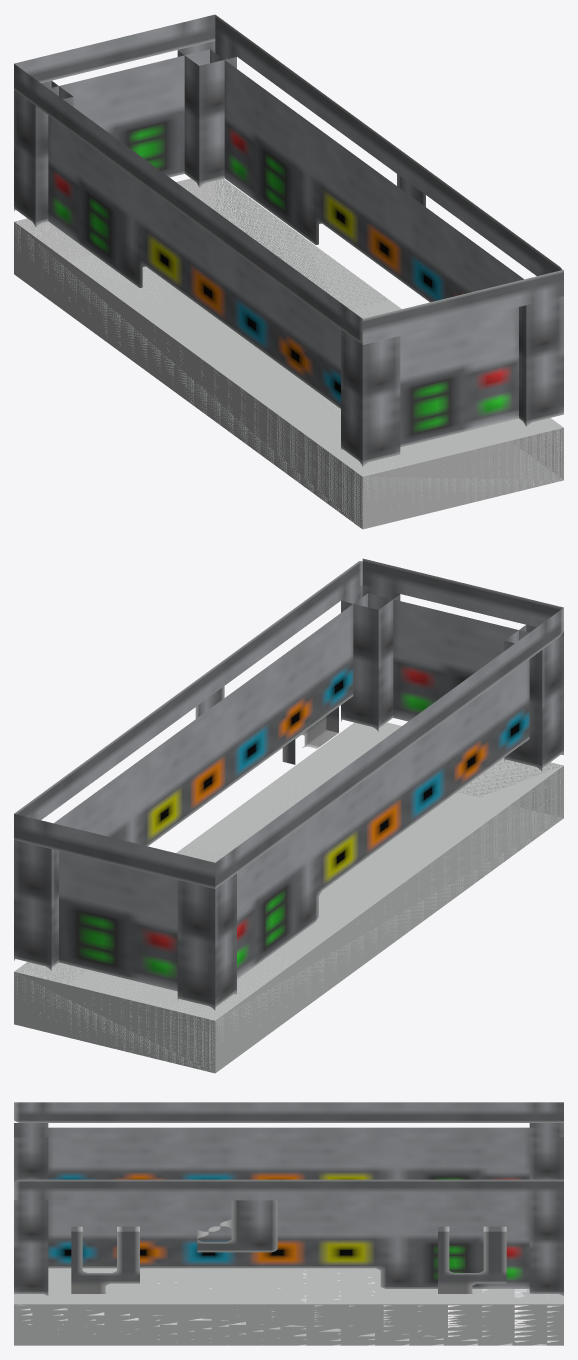
File: solar_array.obj
3 views of the same model, one above another, from view 1: azimuth 30°, elevation 25°; view 2: azimuth 150°, elevation 25°; view 3: azimuth 270°, elevation 25° (orthographic). The views are drawn at different scales.
Parts seen in each view (by area): view 1: Cube_Cube.001; view 2: Cube_Cube.001; view 3: Cube_Cube.001.
Part boxes in pixels (x1=…): Cube_Cube.001: x1=14, y1=14, x2=563, y2=529; Cube_Cube.001: x1=14, y1=558, x2=563, y2=1073; Cube_Cube.001: x1=14, y1=1102, x2=563, y2=1345.
Size of the model in its own units: 1 by 1 by 3.
